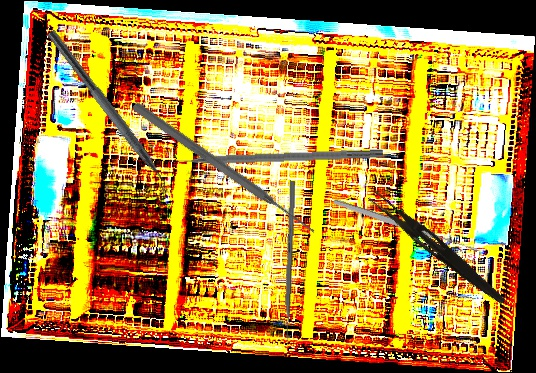Chopper: (35, 29, 180, 204)
Dressing Forceps: (363, 189, 512, 307)
Hook Surgical: (155, 147, 384, 167)
Pusher: (129, 99, 320, 239), (283, 180, 296, 350)
Surgical Spoon: (332, 197, 479, 255)
